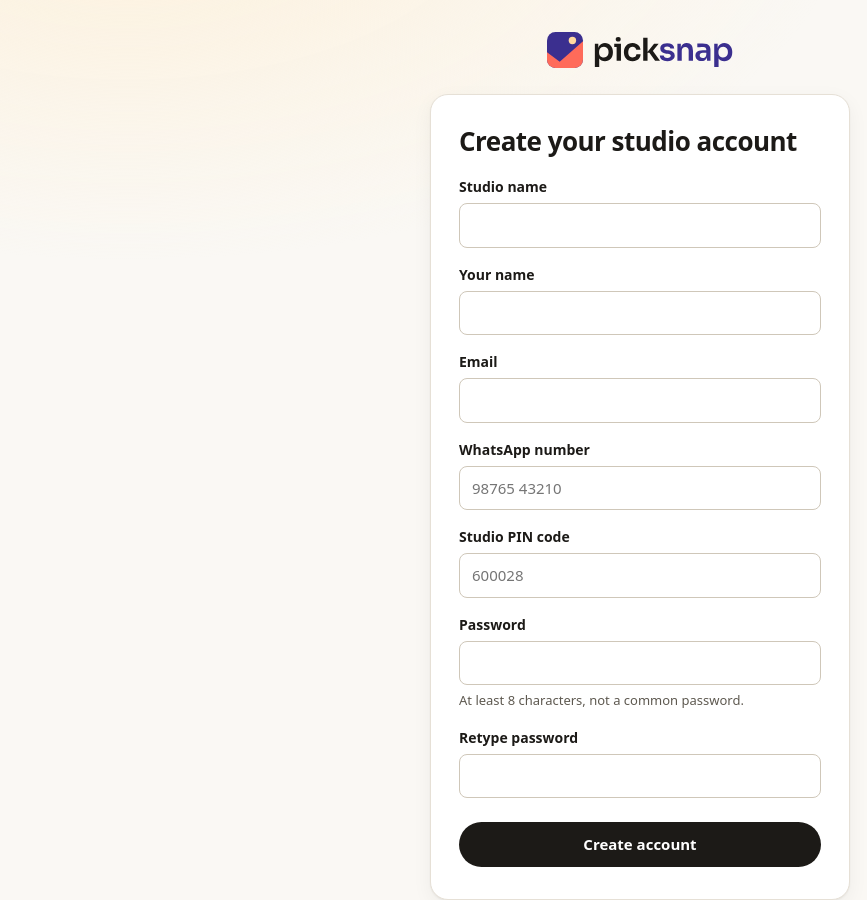
it: signing up › shows errors for boxes the page does not have, so an old page never fails silently
Expected: the heading "Create your studio account" is shown, [459, 126, 821, 156]
Step 1. Click the button "Create account" → {"x": 640, "y": 845}, box [459, 822, 821, 867]
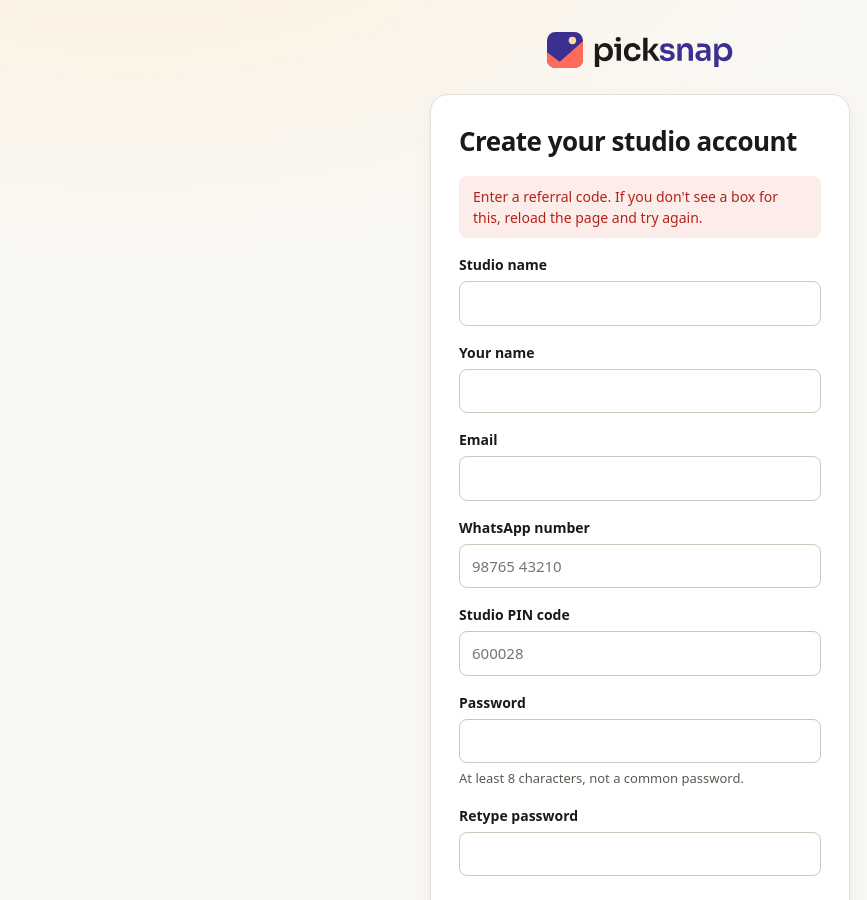
Now the message shows "Enter a referral code. If you don't see a box for this, reload the page and try again.", box [473, 187, 778, 227]
